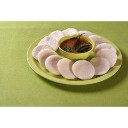idly: (45, 54, 65, 75), (72, 60, 95, 78), (58, 57, 74, 79), (98, 49, 118, 66), (32, 42, 53, 58), (38, 37, 59, 51), (93, 56, 109, 74)
